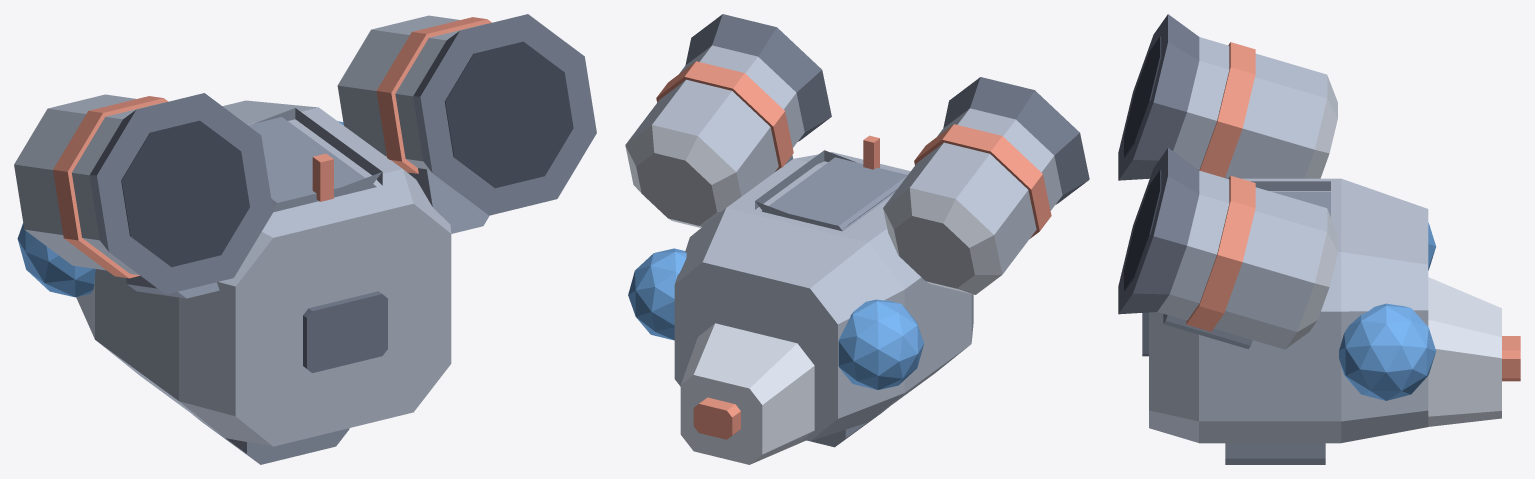
Rendered from robot_mouse_head.glb.
3 views of the same model, side by side, from view 1: azimuth 30°, elevation 25°; view 2: azimuth 150°, elevation 25°; view 3: azimuth 270°, elevation 25° (orthographic). The views are drawn at different scales.
Visible parts, largest first — view 1: Head, EarR_Hole, EarL_Hole, EarL_Bell, EarR_Bell, EarL_Body, TopPlate, BackVent, EarR_Body, EarL_Band, EarR_Band, EarL_Body2 (+6 smaller); view 2: Head, Snout, EarL_Cowl, EarR_Cowl, EarL_Body, EarR_Body, TopPlate, EyeL, EarL_Bell, EarR_Bell, EyeR, EarL_Band (+6 smaller); view 3: Head, EarR_Body, Snout, EarL_Body, EyeR, EarR_Bell, EarL_Bell, EarR_Body2, EarR_Band, EarL_Body2, EarL_Band, Neck (+7 smaller).
Boxes of the visible parts, x1,y1,x2,y2 form: Head: (76,100,451,446); EarR_Hole: (444,41,573,188); EarL_Hole: (121,120,249,266); EarL_Bell: (89,93,273,294); EarR_Bell: (413,14,596,215); EarL_Body: (14,94,135,270); TopPlate: (248,108,382,212); BackVent: (303,291,387,372); EarR_Body: (337,15,459,156); EarL_Band: (53,96,167,278); EarR_Band: (376,17,491,173); EarL_Body2: (72,102,163,274); Head: (674,152,973,441); Snout: (680,323,814,464); EarL_Cowl: (883,188,1002,294); EarR_Cowl: (625,125,741,227); EarL_Body: (883,142,1036,274); EarR_Body: (625,79,778,196); TopPlate: (755,150,907,231); EyeL: (838,299,924,389); EarL_Bell: (943,77,1089,204); EarR_Bell: (685,14,831,141); EyeR: (628,248,686,340); EarL_Band: (914,124,1051,238); Head: (1149,178,1428,443); EarR_Body: (1214,187,1327,349); Snout: (1428,277,1501,426); EarL_Body: (1225,53,1327,178); EyeR: (1339,303,1436,400); EarR_Bell: (1118,148,1199,314); EarL_Bell: (1118,14,1199,180); EarR_Body2: (1157,170,1229,320); EarR_Band: (1186,175,1255,331); EarL_Body2: (1173,37,1229,169); EarL_Band: (1199,42,1255,177); Neck: (1225,443,1325,464).
Size of the model in its own units: 1.81 by 1.48 by 1.53.
